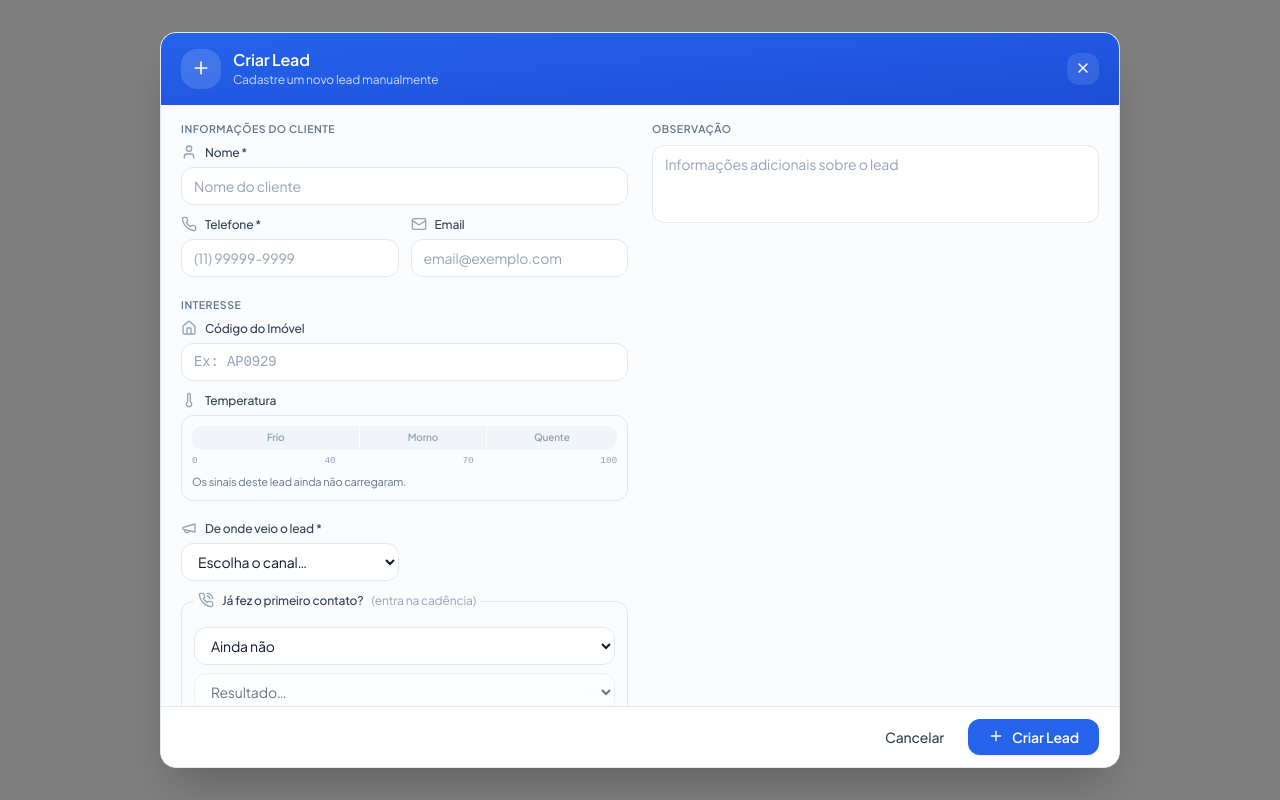
Scenario: Duplicidade de telefone ao criar lead › telefone já usado por outro lead NÃO cria segunda ficha (CA-02)
The width and height of the screenshot is (1280, 800).
Type "Maria" into the field with placeholder "Nome do cliente" at (404, 186), box left=181, top=167, right=628, bottom=205
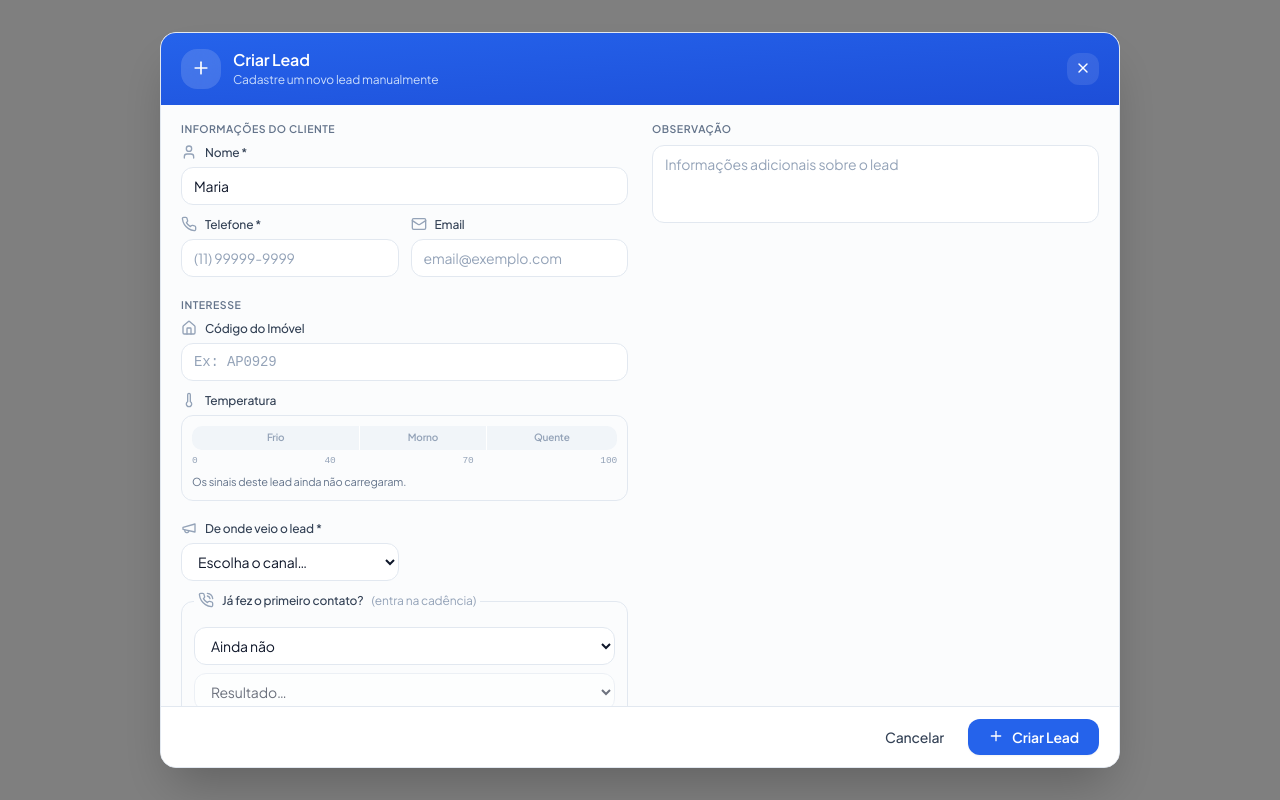
Type "19999999999" into the field with placeholder "(11) 99999-9999" at (290, 258), box left=181, top=239, right=398, bottom=277
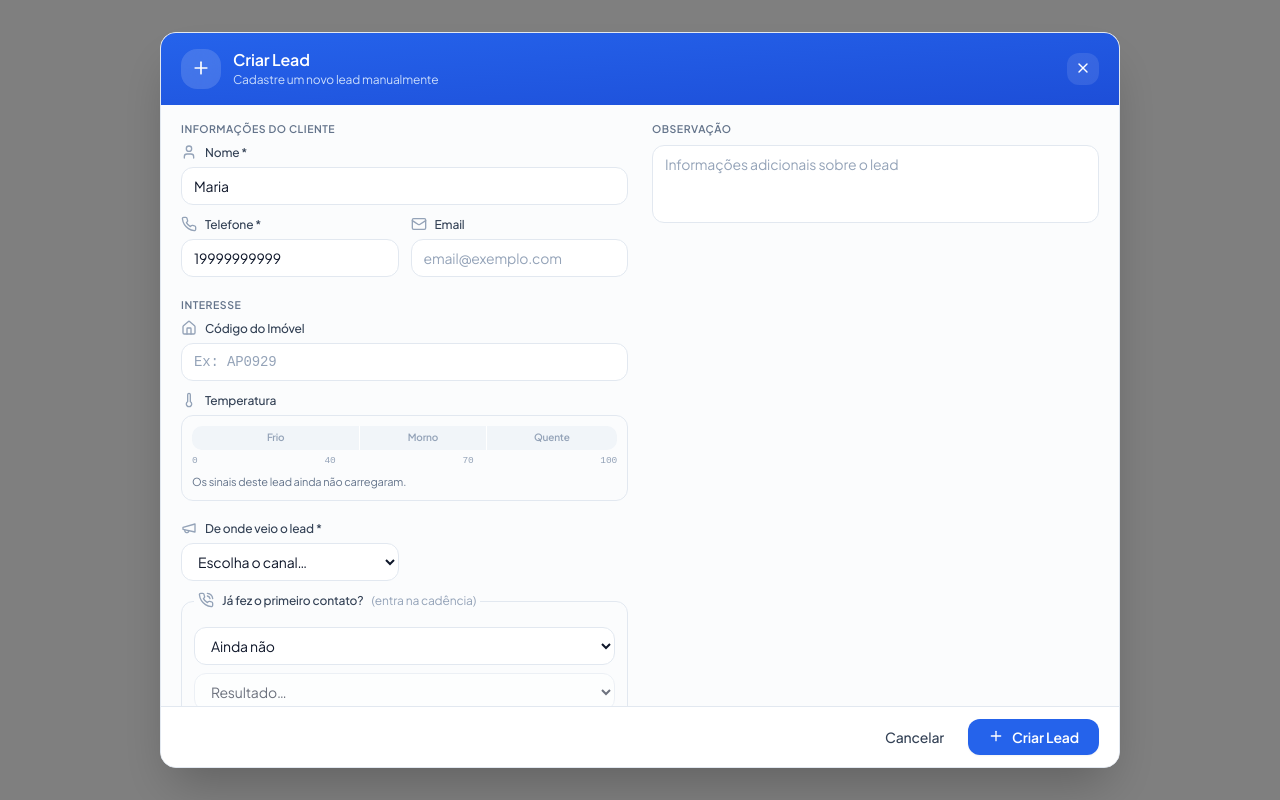
Select "Plantão" in the dropdown labelled "De onde veio o lead *" at (290, 562), box left=181, top=543, right=398, bottom=581
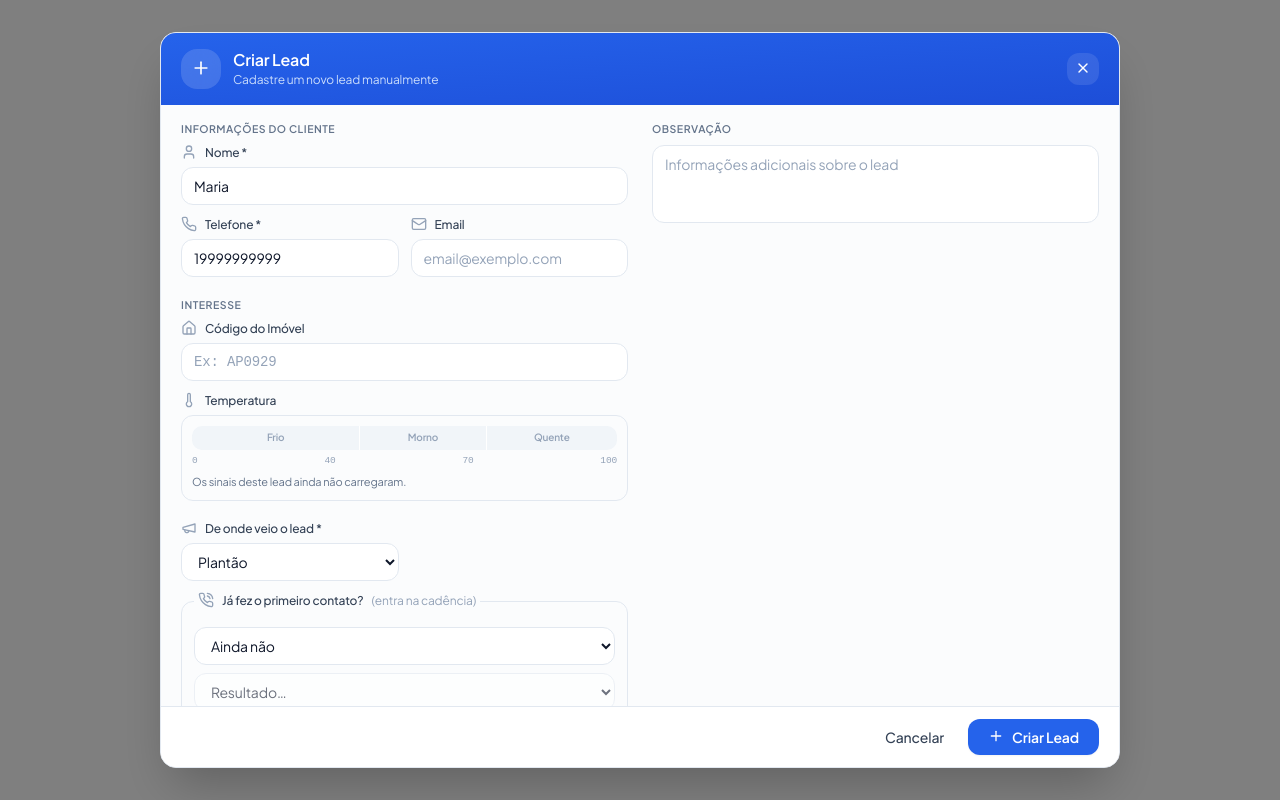
Click the button "Criar Lead" at (1034, 737), box left=968, top=719, right=1099, bottom=755
(page scrolled)
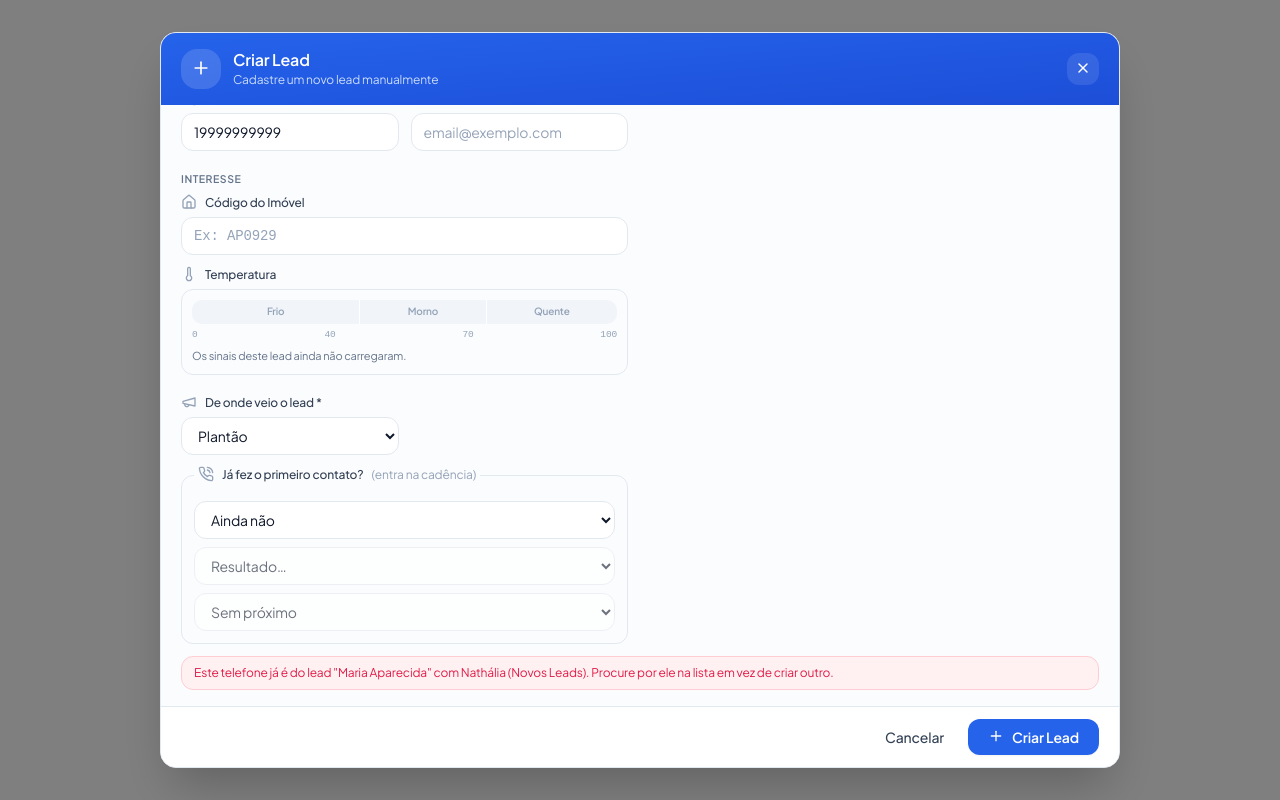
Expected: the text "já é do lead \"Maria Aparecida\"" is shown, left=194, top=665, right=834, bottom=680
